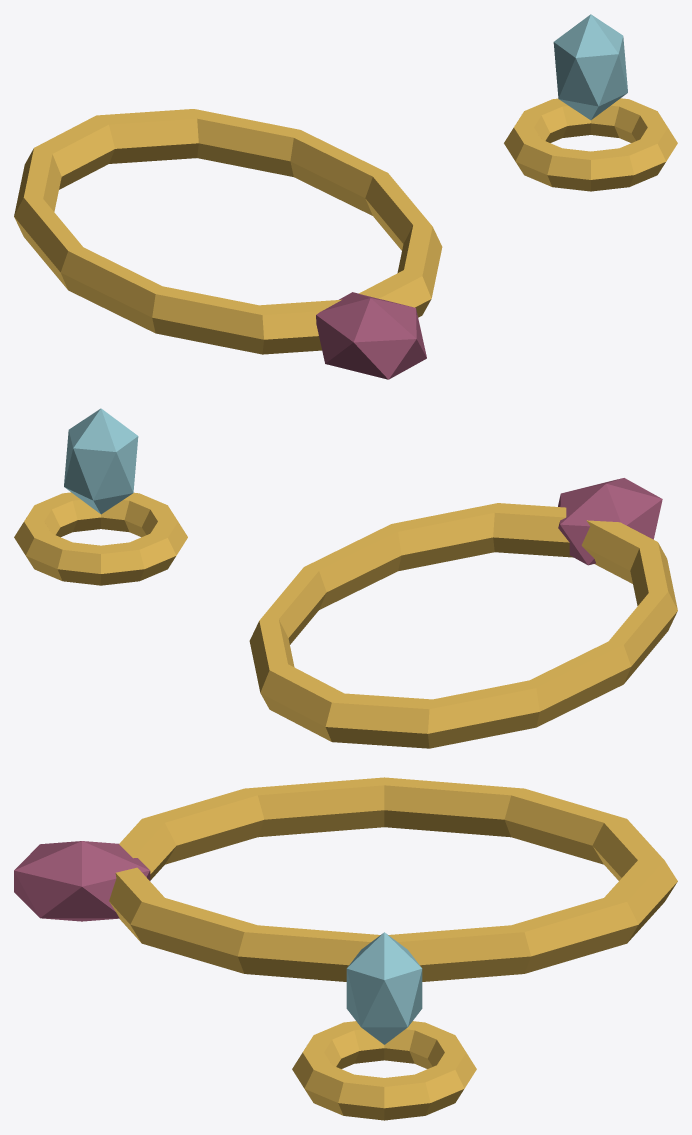
File: Prop_JewelrySet.fbx
3 views of the same model, one above another, from view 1: azimuth 30°, elevation 25°; view 2: azimuth 150°, elevation 25°; view 3: azimuth 270°, elevation 25° (orthographic). The views are drawn at different scales.
Visible parts, largest first — view 1: Necklace, Ring, Pendant, Gem.006; view 2: Necklace, Ring, Gem.006, Pendant; view 3: Necklace, Ring, Pendant, Gem.006.
Part boxes in pixels (x1,y1,x2,y2): Necklace: [14, 109, 442, 354]; Ring: [504, 98, 677, 191]; Pendant: [316, 292, 426, 379]; Gem.006: [553, 14, 627, 120]; Necklace: [249, 503, 677, 748]; Ring: [14, 492, 187, 585]; Gem.006: [64, 408, 138, 514]; Pendant: [558, 478, 662, 565]; Necklace: [109, 777, 677, 981]; Ring: [292, 1021, 476, 1120]; Pendant: [14, 841, 150, 921]; Gem.006: [346, 932, 422, 1044].
Bounding box in the file's own units: 0.4175 × 0.11 × 0.3733.
